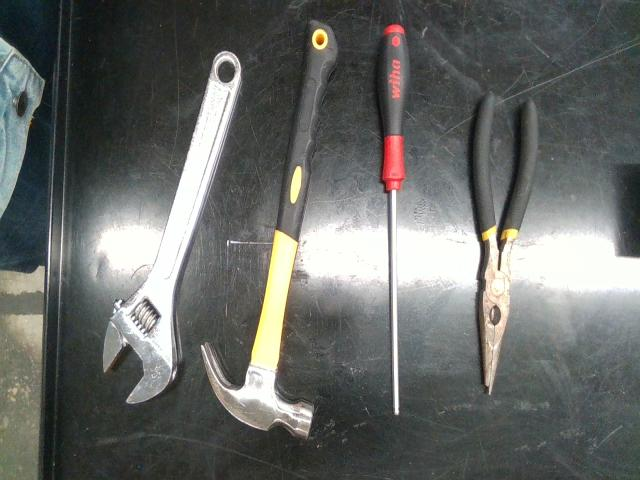Adjustable spanner: (102, 52, 241, 403)
Hammer: (201, 20, 338, 438)
Needle-nose pliers: (472, 92, 539, 394)
Screwdriver: (378, 23, 410, 415)
